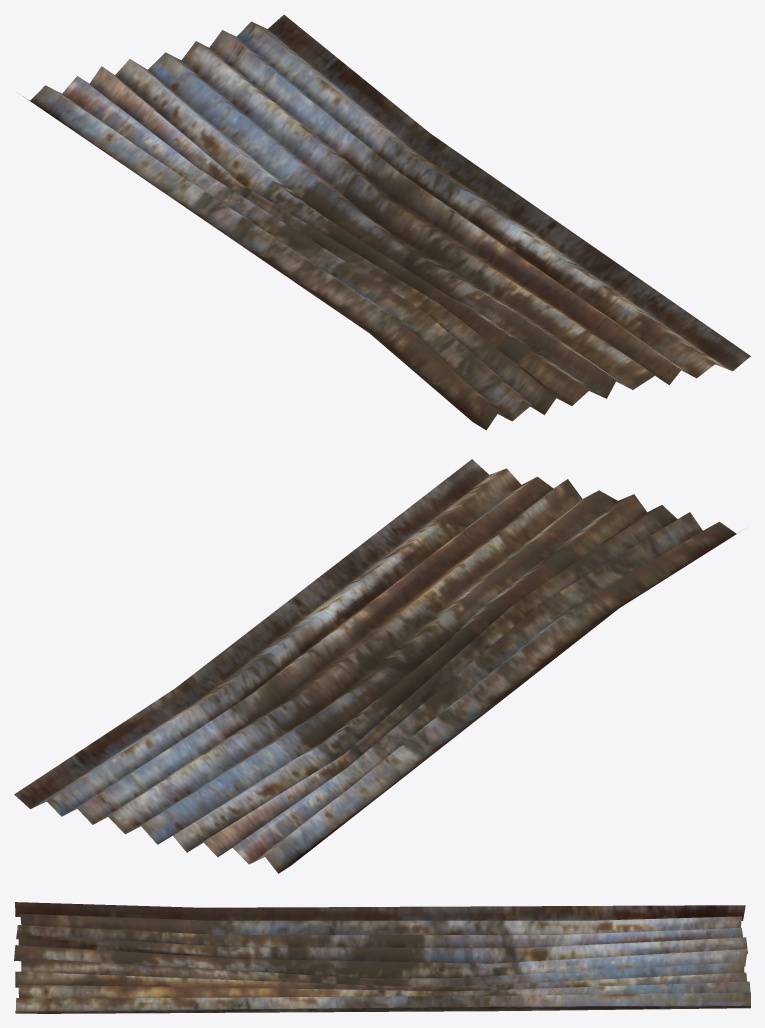
The model's file is RustedSmallSheet_01.FBX.
3 renders of one model, top to bottom at view 1: azimuth 30°, elevation 25°; view 2: azimuth 150°, elevation 25°; view 3: azimuth 270°, elevation 25°, orthographic. The views are drawn at different scales.
Visible parts, largest first — view 1: RustedSmallSheet_01; view 2: RustedSmallSheet_01; view 3: RustedSmallSheet_01.
Part boxes in pixels (<box>): RustedSmallSheet_01: <box>23,15,750,430</box>; RustedSmallSheet_01: <box>14,459,740,873</box>; RustedSmallSheet_01: <box>14,902,750,1013</box>.
Bounding box in the file's own units: 69.59 × 8.86 × 200.
